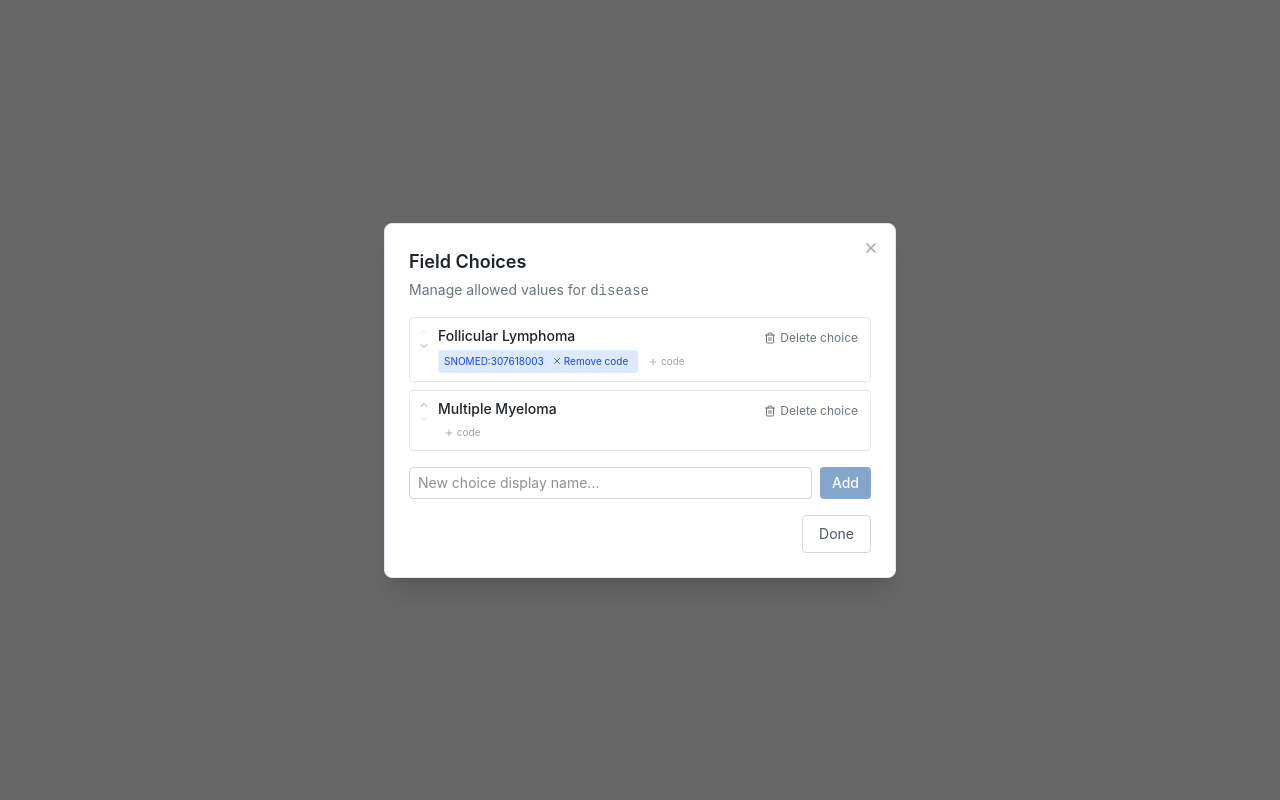
Test case: FieldChoiceEditor › keeps the code visible and reports a failed removal
Click the button with aria-label "Remove code SNOMED:307618003 from Follicular Lymphoma".
click(590, 361)  # box [548,352,632,370]
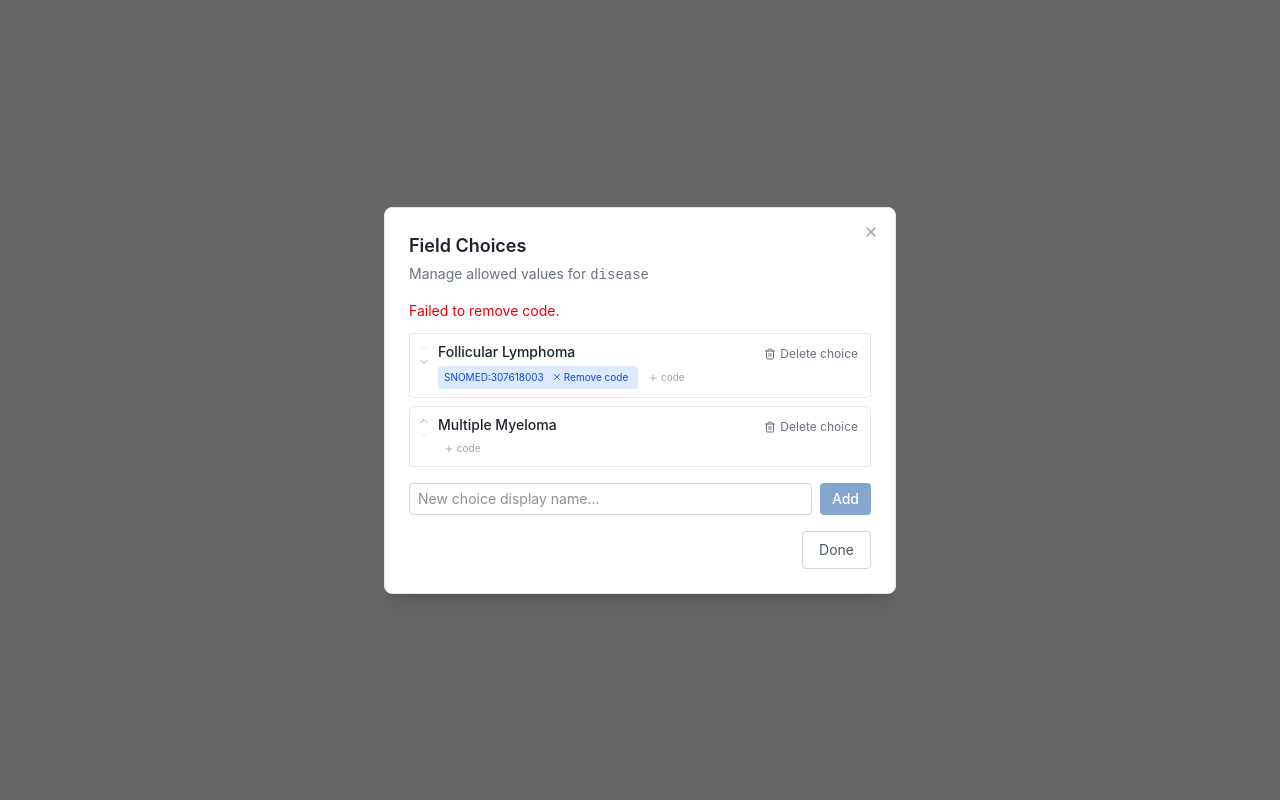
Expected: the text "SNOMED:307618003" is shown, [438,366,638,388]
Result: the text "Failed to remove code." is shown at [409,302,560,318]
